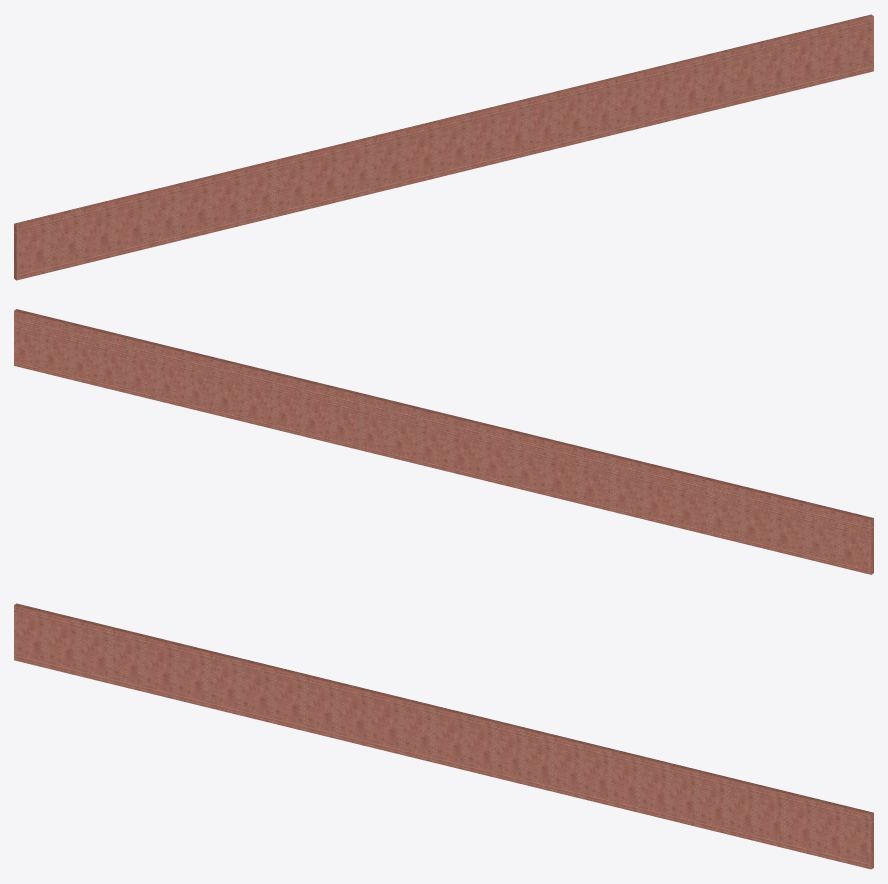
File: BRCIKWALL08.glb
The picture shows the model from 3 angles, top to bottom: view 1: azimuth 30°, elevation 25°; view 2: azimuth 150°, elevation 25°; view 3: azimuth 330°, elevation 25°; orthographic projection.
Visible parts, largest first — view 1: BRCIKWALL08; view 2: BRCIKWALL08; view 3: BRCIKWALL08.
Boxes of the visible parts, x1,y1,x2,y2 form: BRCIKWALL08: (14, 14, 873, 280); BRCIKWALL08: (14, 309, 873, 574); BRCIKWALL08: (14, 603, 873, 869).
Size of the model in its own units: 12761 by 784 by 66.32.
Materials: 1 (1 with a texture image).
